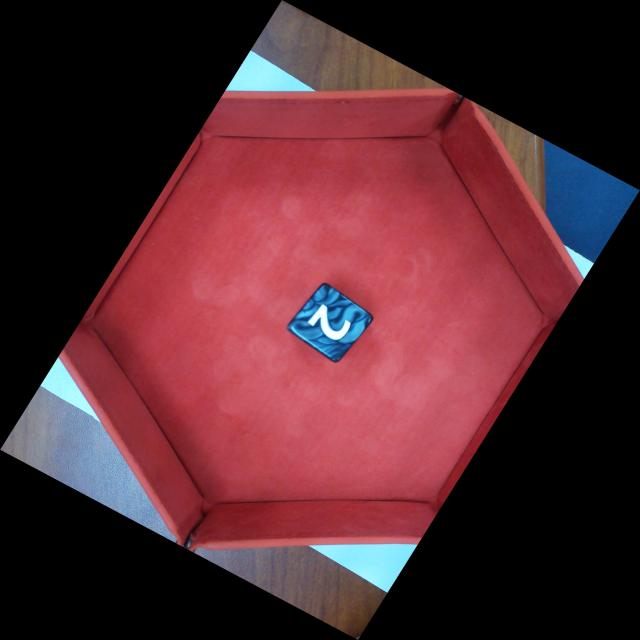dice: (290, 285, 376, 359)
